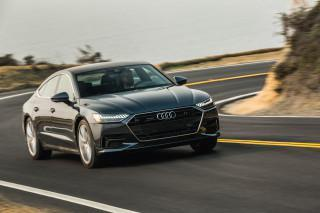Audi: (154, 108, 180, 124)
